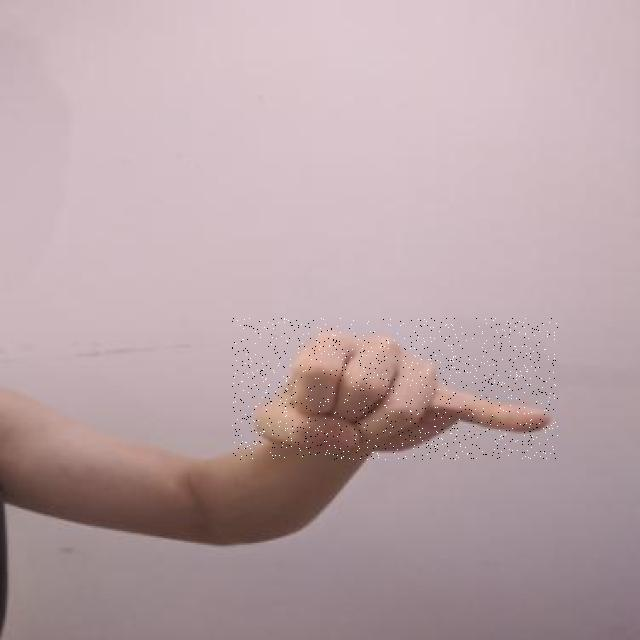J: (232, 318, 558, 460)
